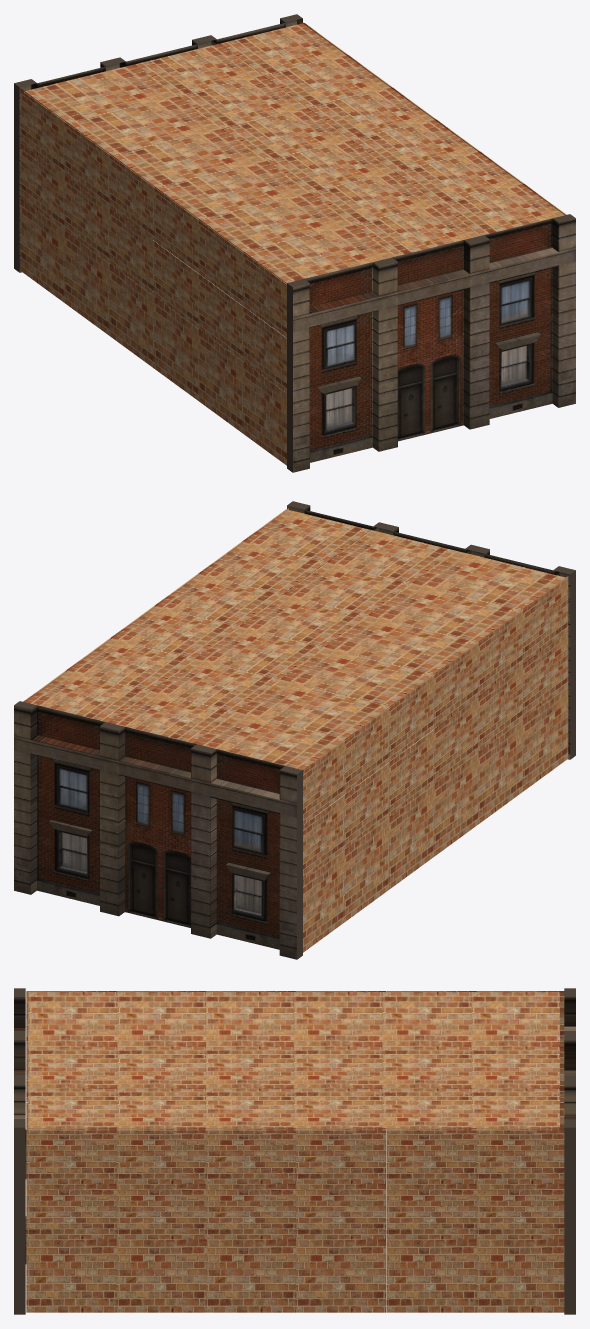
File: building_1.glb
The picture shows the model from 3 angles, top to bottom: view 1: azimuth 30°, elevation 25°; view 2: azimuth 150°, elevation 25°; view 3: azimuth 270°, elevation 25°; orthographic projection.
Visible parts, largest first — view 1: building.001; view 2: building.001; view 3: building.001.
Part boxes in pixels (x1=…): building.001: x1=14, y1=14, x2=575, y2=472; building.001: x1=14, y1=501, x2=575, y2=959; building.001: x1=14, y1=988, x2=575, y2=1314.
Bounding box in the file's own units: 1.6 × 1 × 2.73.
Materials: 2 (2 with a texture image).
